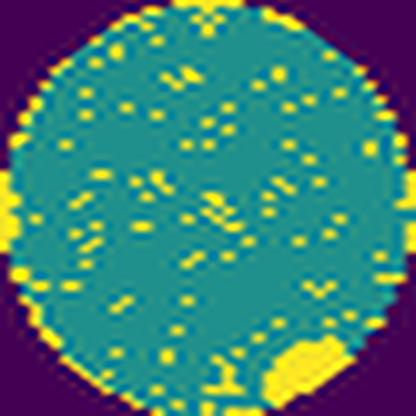Edge-Loc: (255, 334, 359, 416)
